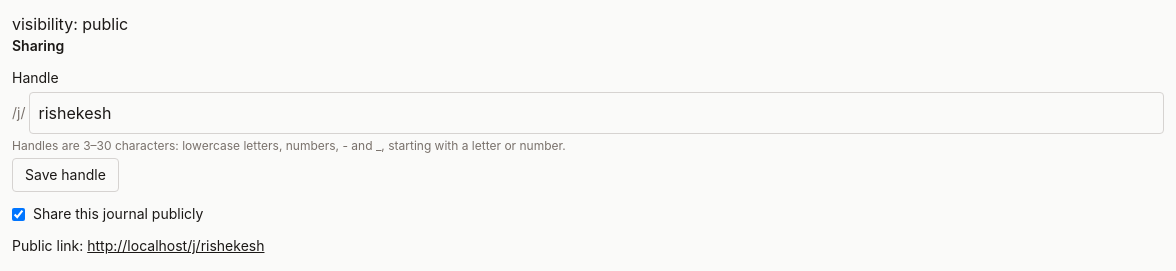
SharingSettings › goes private without asking
The width and height of the screenshot is (1176, 271).
Click the checkbox labelled "Share this journal publicly" at (18, 214), box [12,208,25,220]
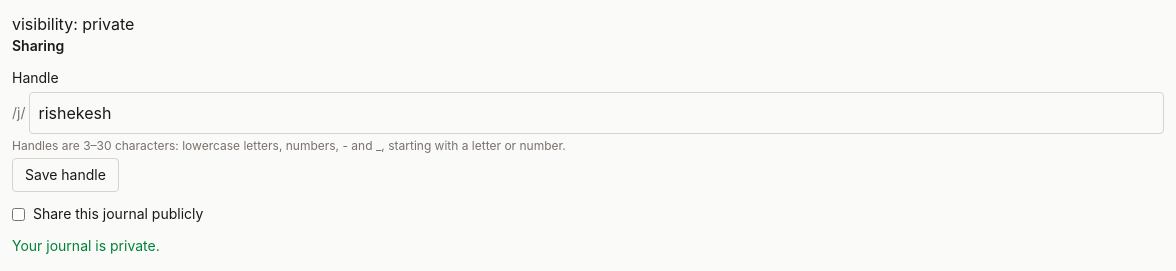
Result: the text "visibility: private" is shown at [12,14,134,34]
Result: the link "http://localhost/j/rishekesh" is gone
